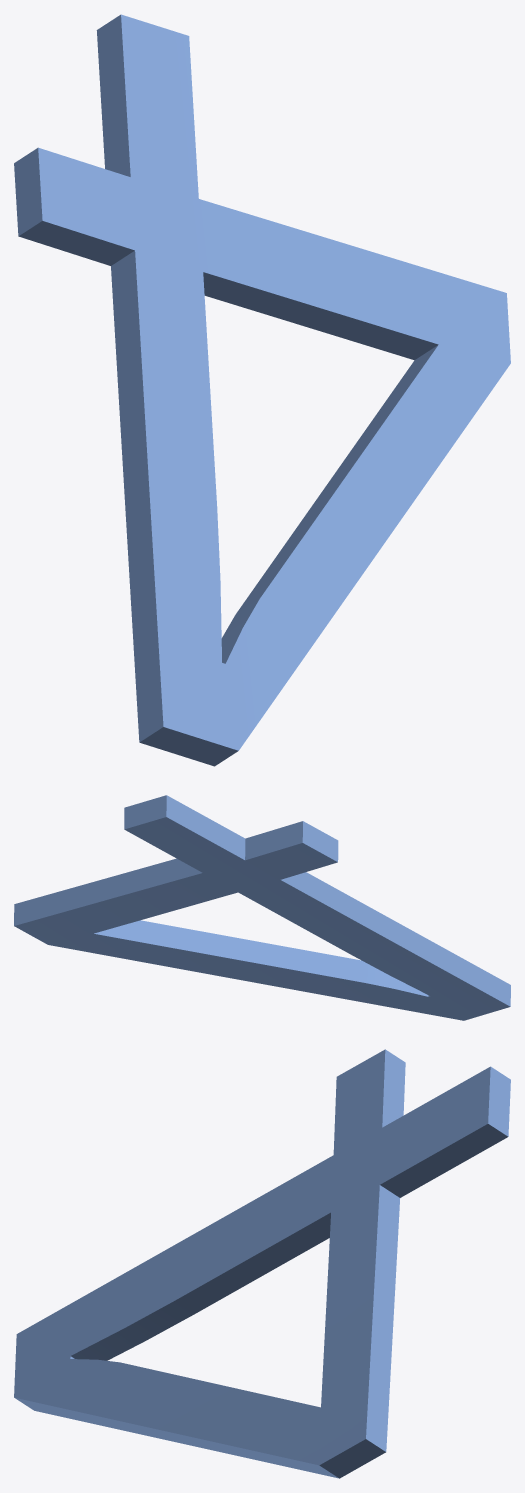
File: New_Number_4.gltf
3 renders of one model, top to bottom at view 1: azimuth 30°, elevation 25°; view 2: azimuth 150°, elevation 25°; view 3: azimuth 270°, elevation 25°, orthographic. The views are drawn at different scales.
Visible parts, largest first — view 1: Part 211; view 2: Part 211; view 3: Part 211.
Boxes of the visible parts, <box> form: Part 211: <box>14,14,510,766</box>; Part 211: <box>14,795,510,1020</box>; Part 211: <box>14,1049,510,1478</box>.
Bounding box in the file's own units: 0.0045 × 0.00383 × 0.00413.
